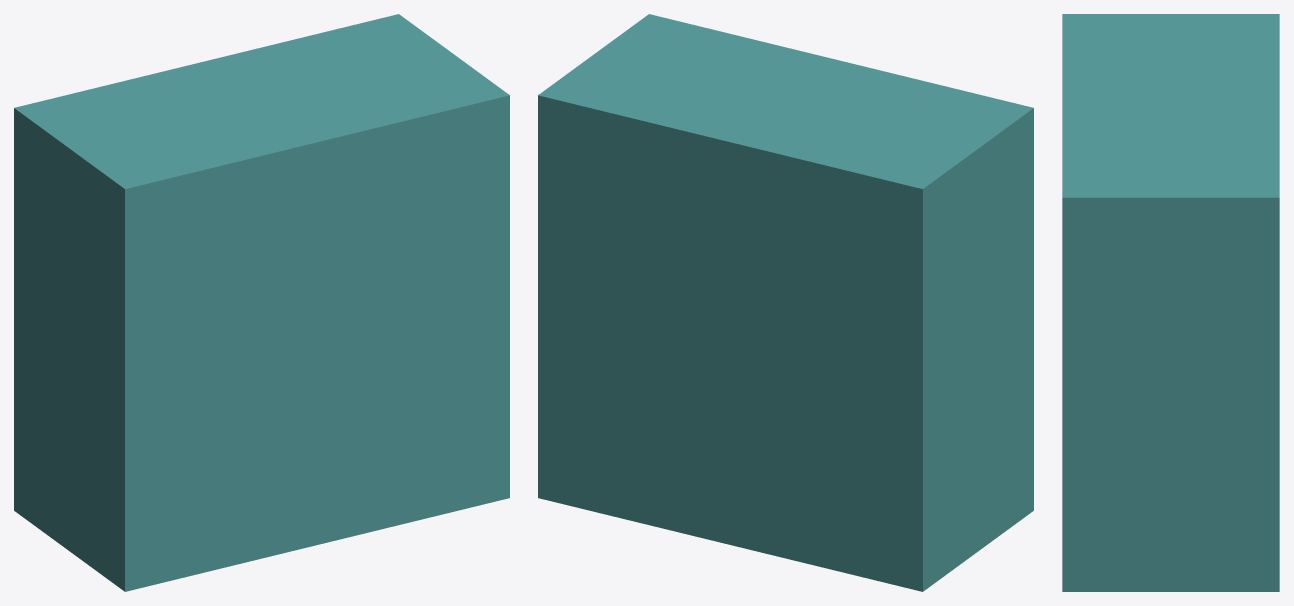
File: OneWay_VerticalSlab.glb
3 views of the same model, side by side, from view 1: azimuth 30°, elevation 25°; view 2: azimuth 150°, elevation 25°; view 3: azimuth 270°, elevation 25° (orthographic). The views are drawn at different scales.
Parts seen in each view (by area): view 1: OneWay_VerticalSlab_body; view 2: OneWay_VerticalSlab_body; view 3: OneWay_VerticalSlab_body.
Boxes of the visible parts, box(x1,y1,x2,y2) form: OneWay_VerticalSlab_body: box(14, 14, 509, 591); OneWay_VerticalSlab_body: box(538, 14, 1033, 591); OneWay_VerticalSlab_body: box(1062, 14, 1279, 591).
Bounding box in the file's own units: 1 × 1 × 0.5.
